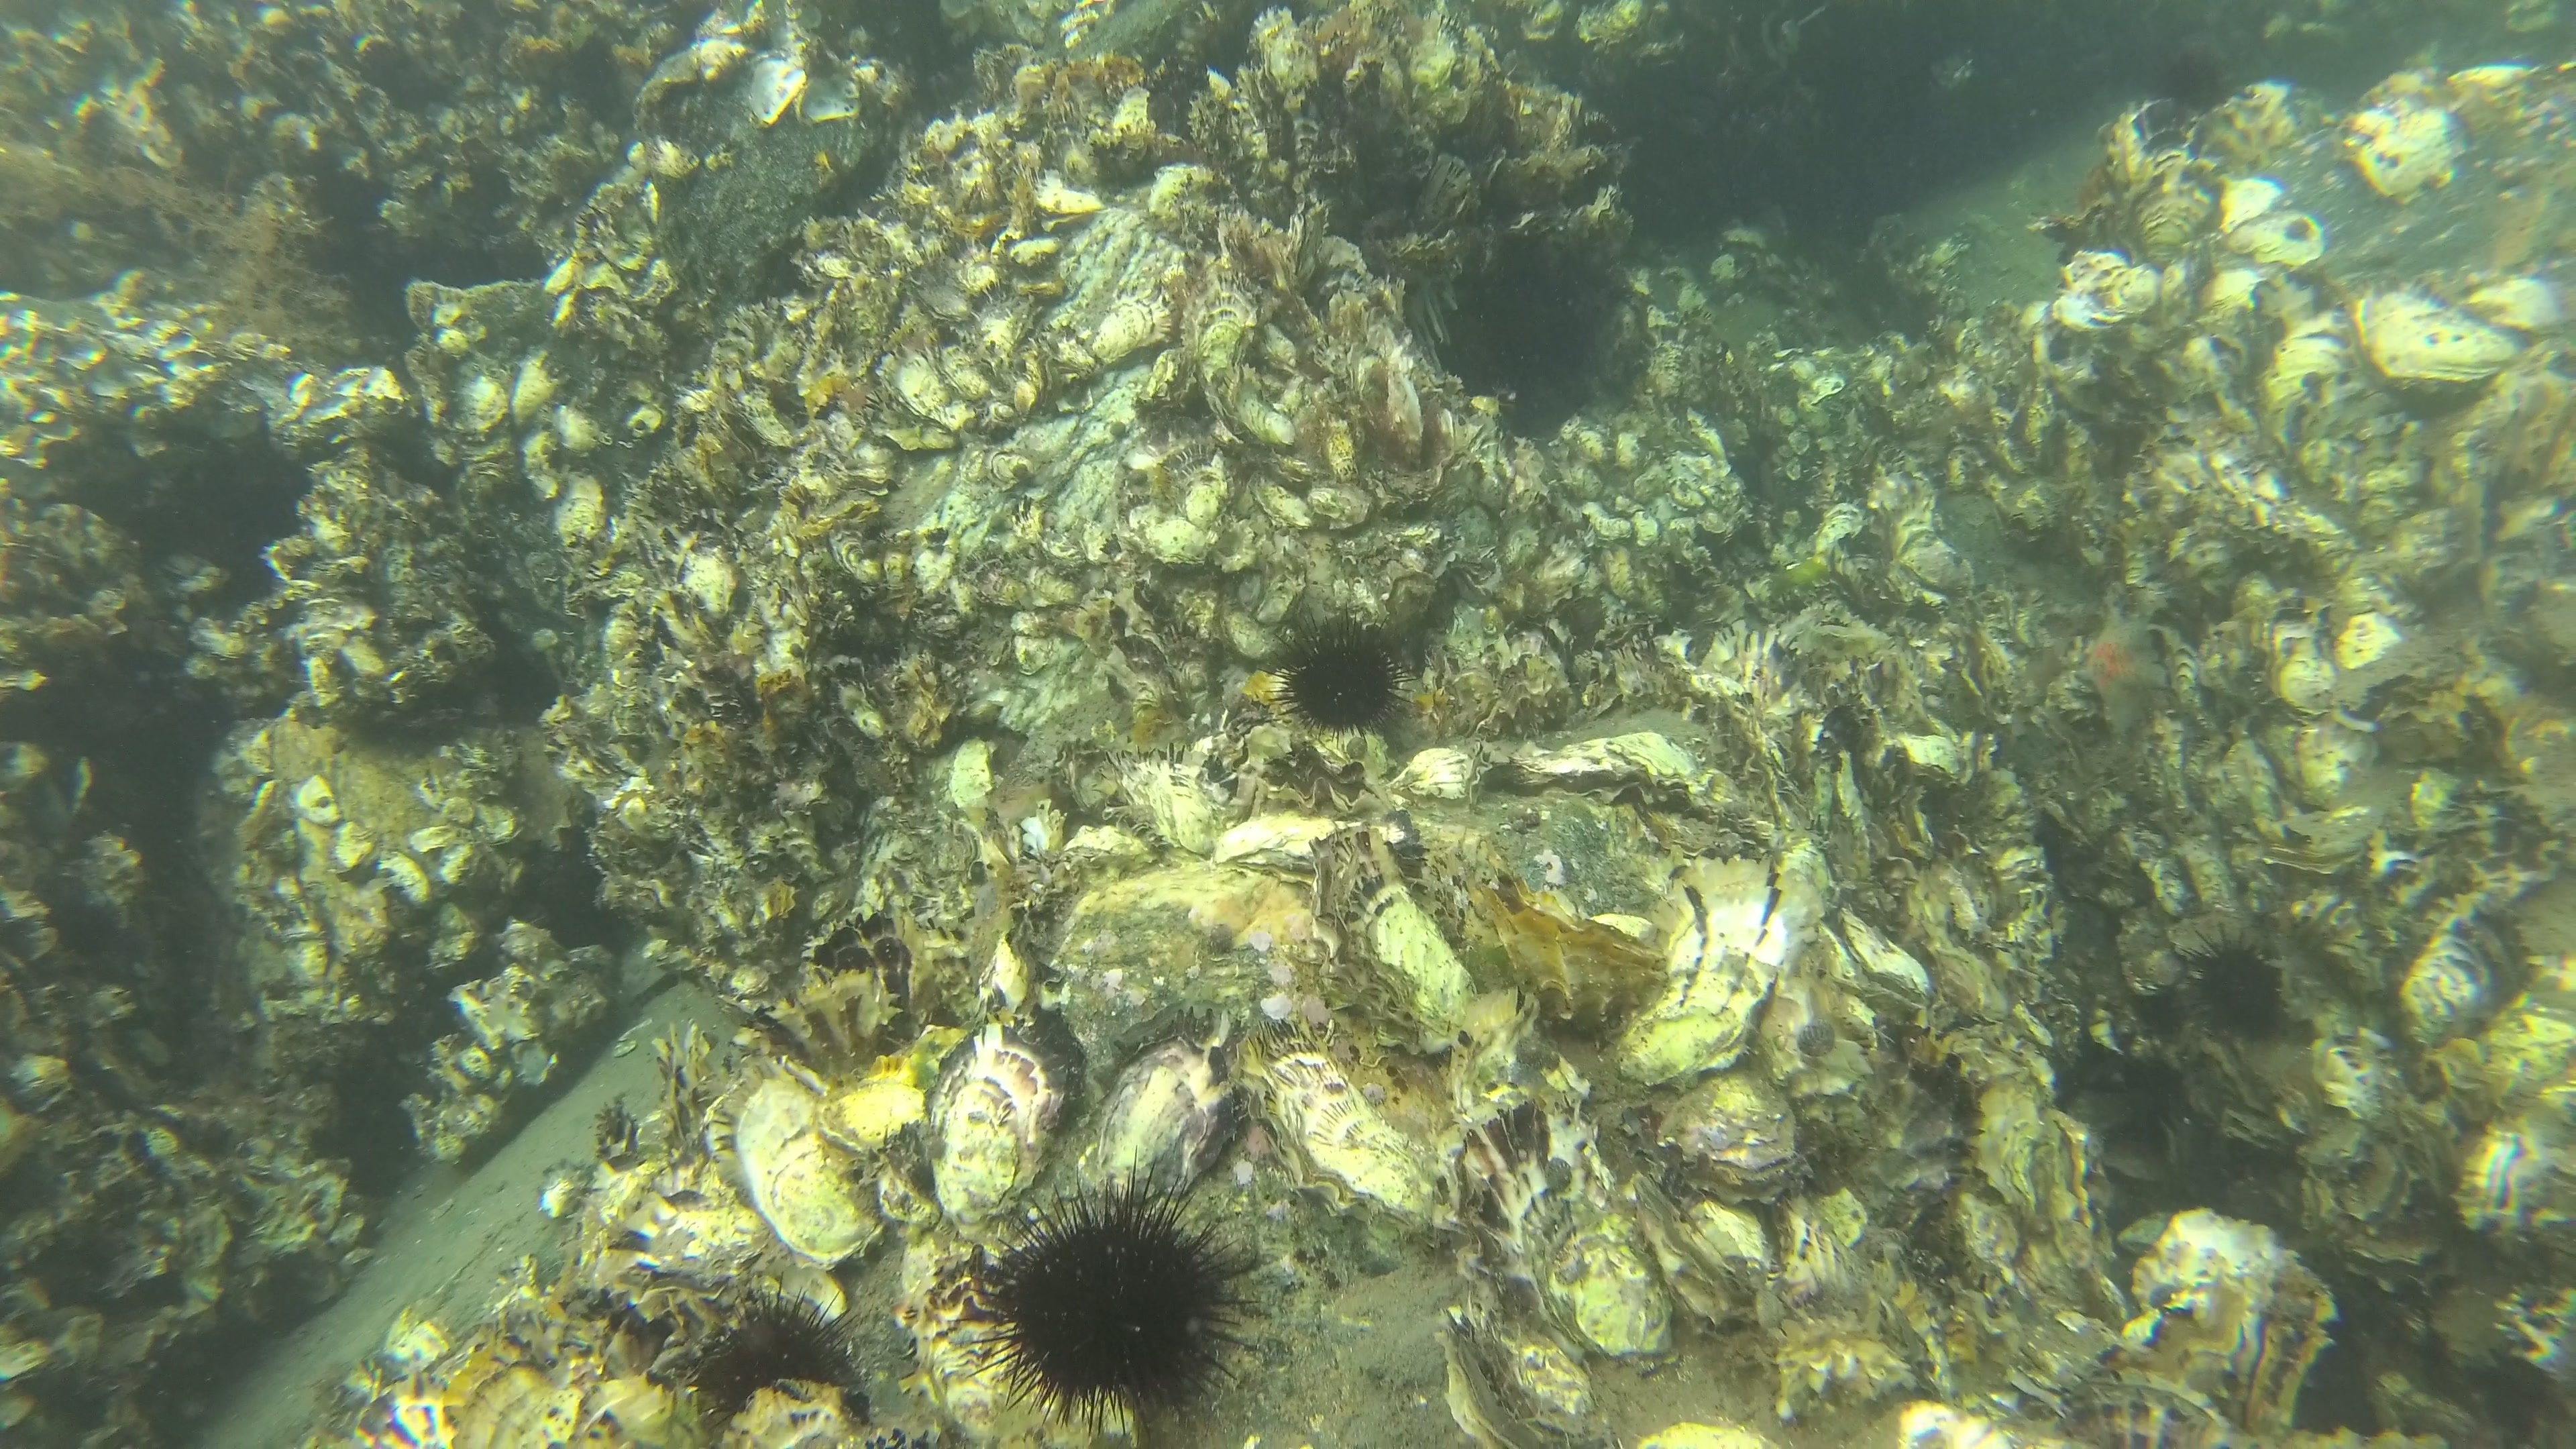echinus: (957, 1154, 1269, 1442), (683, 1279, 874, 1430), (1269, 596, 1421, 741), (2176, 920, 2288, 1042)
starfish: (2068, 603, 2178, 750)
